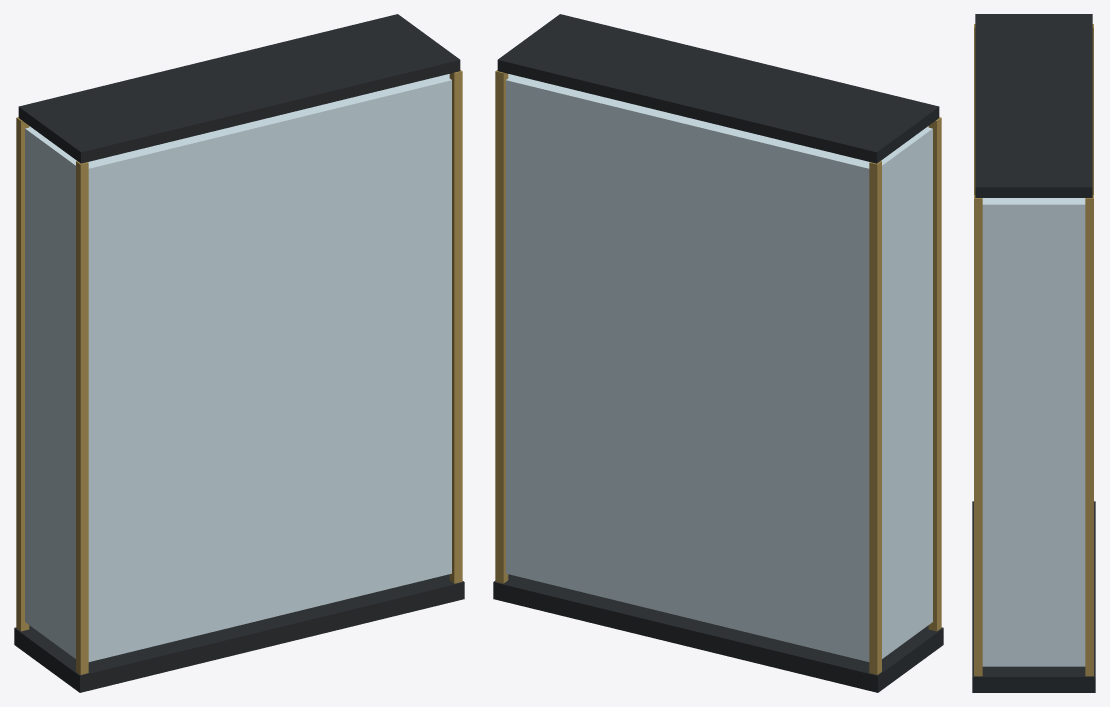
The model's file is vitrine.glb.
3 views of the same model, side by side, from view 1: azimuth 30°, elevation 25°; view 2: azimuth 150°, elevation 25°; view 3: azimuth 270°, elevation 25° (orthographic). The views are drawn at different scales.
Parts seen in each view (by area): view 1: vitrine_malha; view 2: vitrine_malha; view 3: vitrine_malha.
Part boxes in pixels (box(x1,y1,x2,y2)): vitrine_malha: box(14, 14, 464, 692); vitrine_malha: box(493, 14, 943, 692); vitrine_malha: box(972, 14, 1095, 692).
Bounding box in the file's own units: 1.42 × 1.9 × 0.42.
